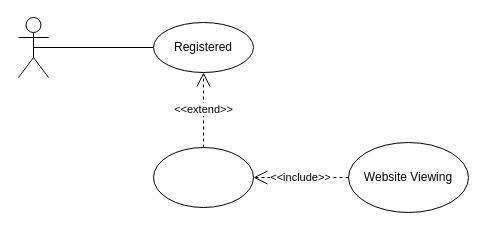
Image size: 486x230. Some labels were removed from this diagram. The shapes that lost their labels are listed below. From the top down, each one's centre as x and y in pixels, then its label:
At point 33,47: "Guest".
At point 203,177: "Not Registered".
